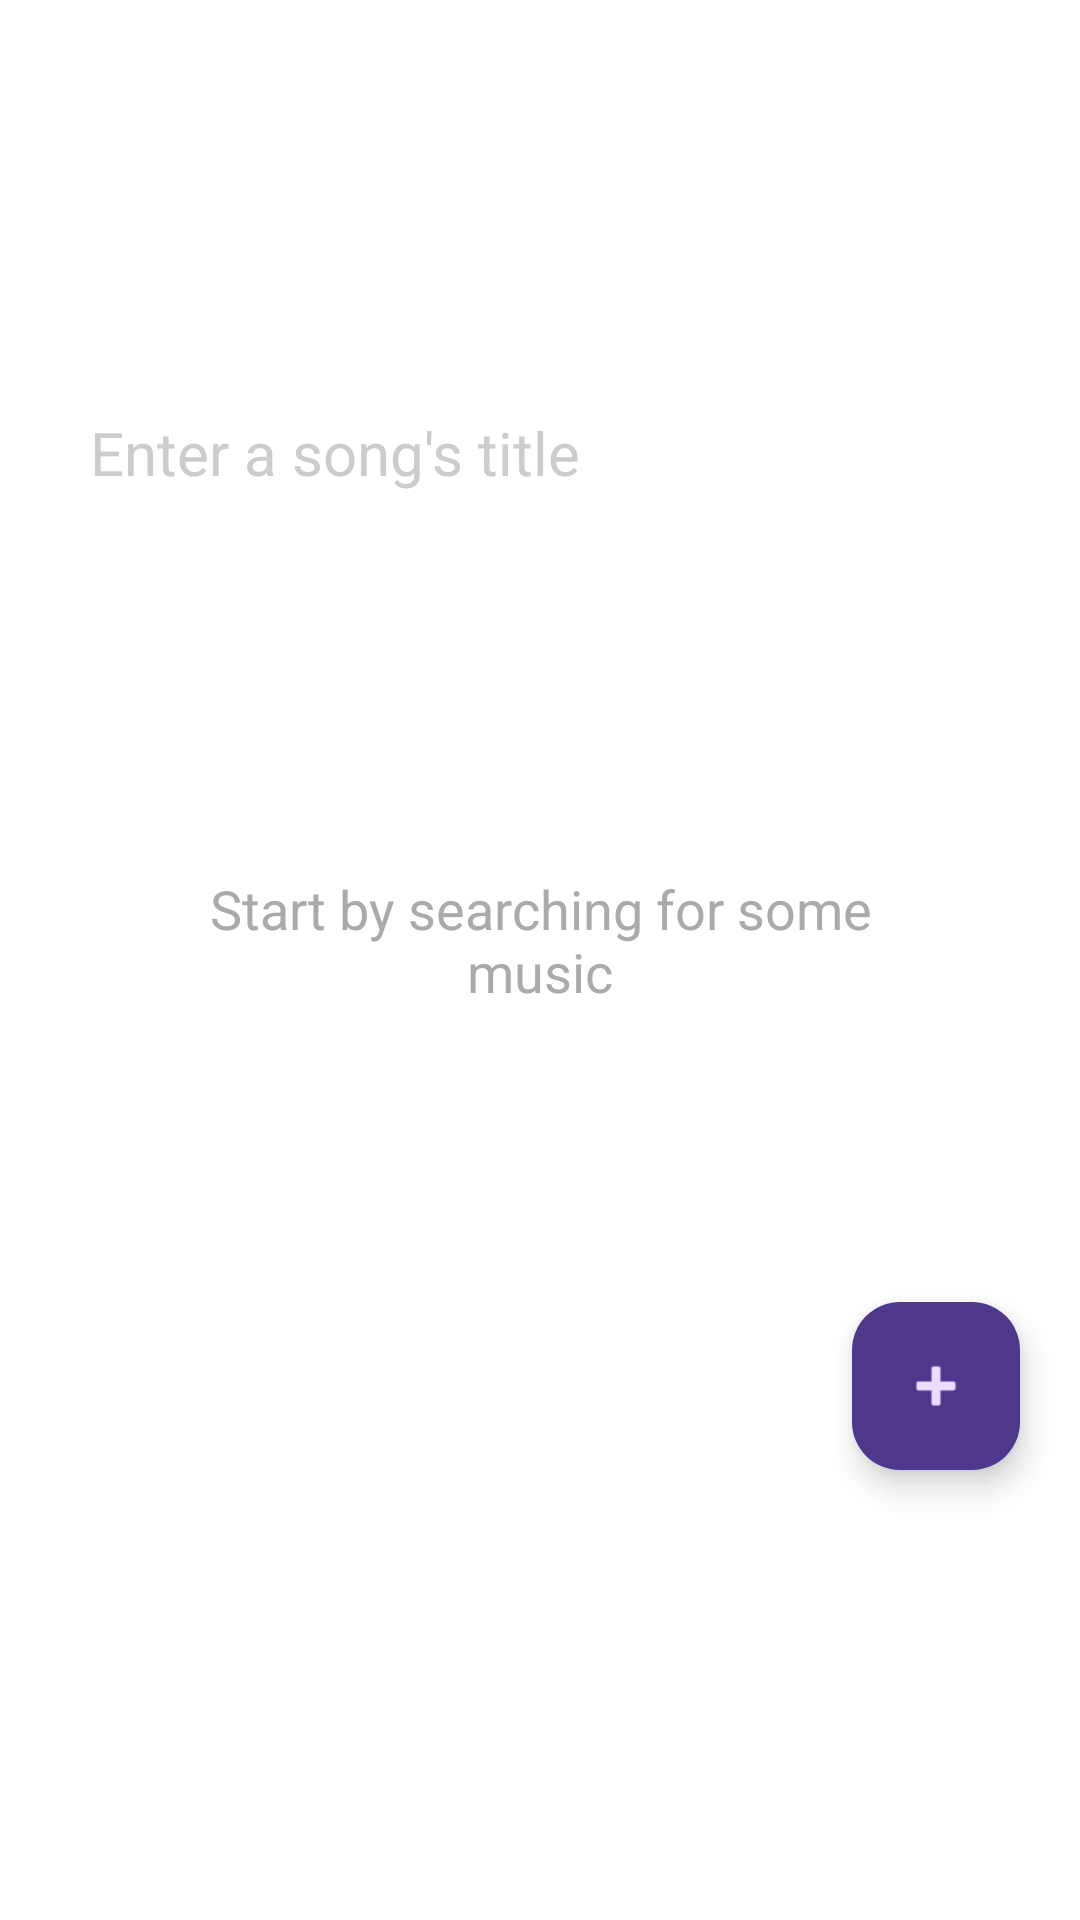

Named icons in this screenshot (1080 x 1920) and their bounding boxes, (x1, y1, x2, y2):
add: (852, 1302, 1020, 1470)
